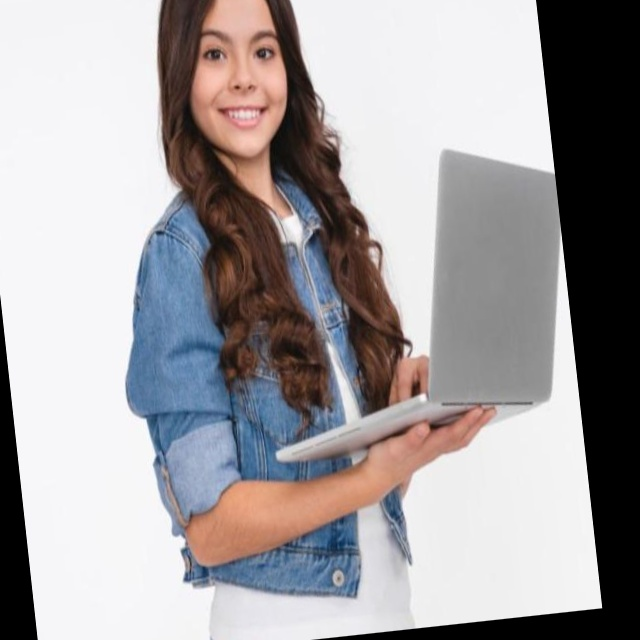Sin_Casco_Mascarrilla: (153, 0, 315, 164)
Sin_Chaleco: (118, 157, 423, 605)
